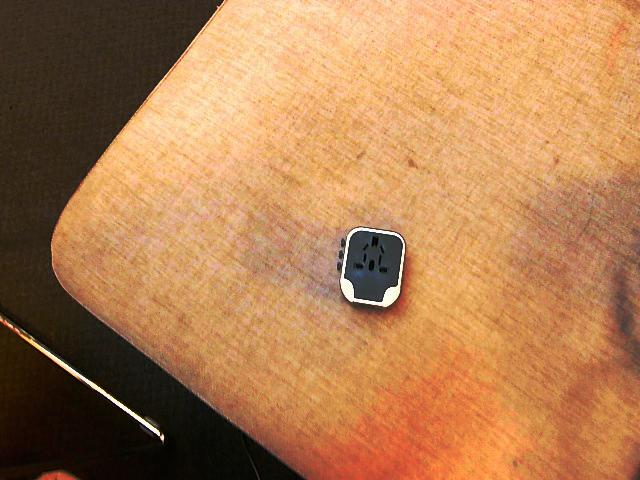adapter: (337, 225, 405, 307)
